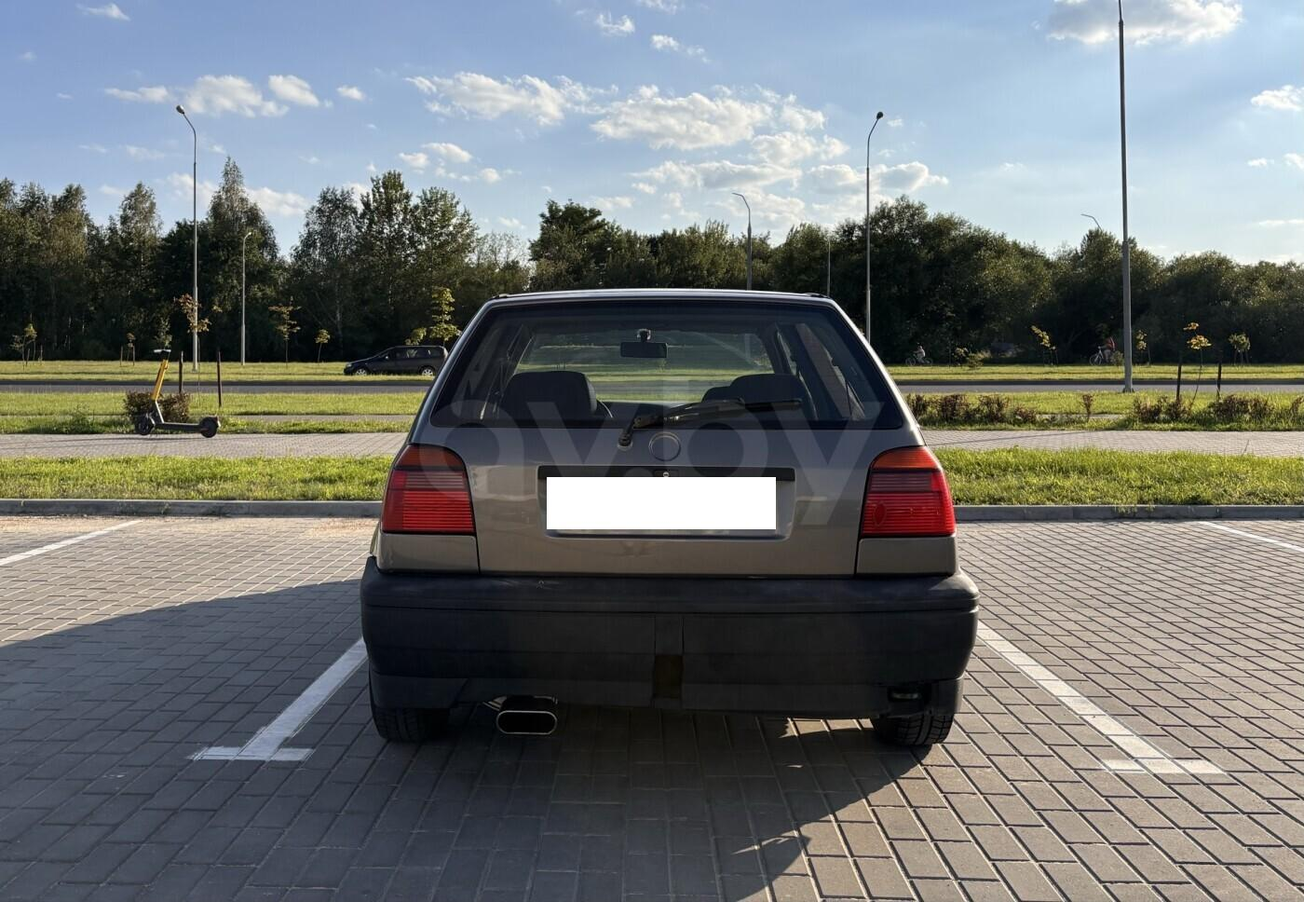Golf_1991-2000: (355, 286, 984, 761)
